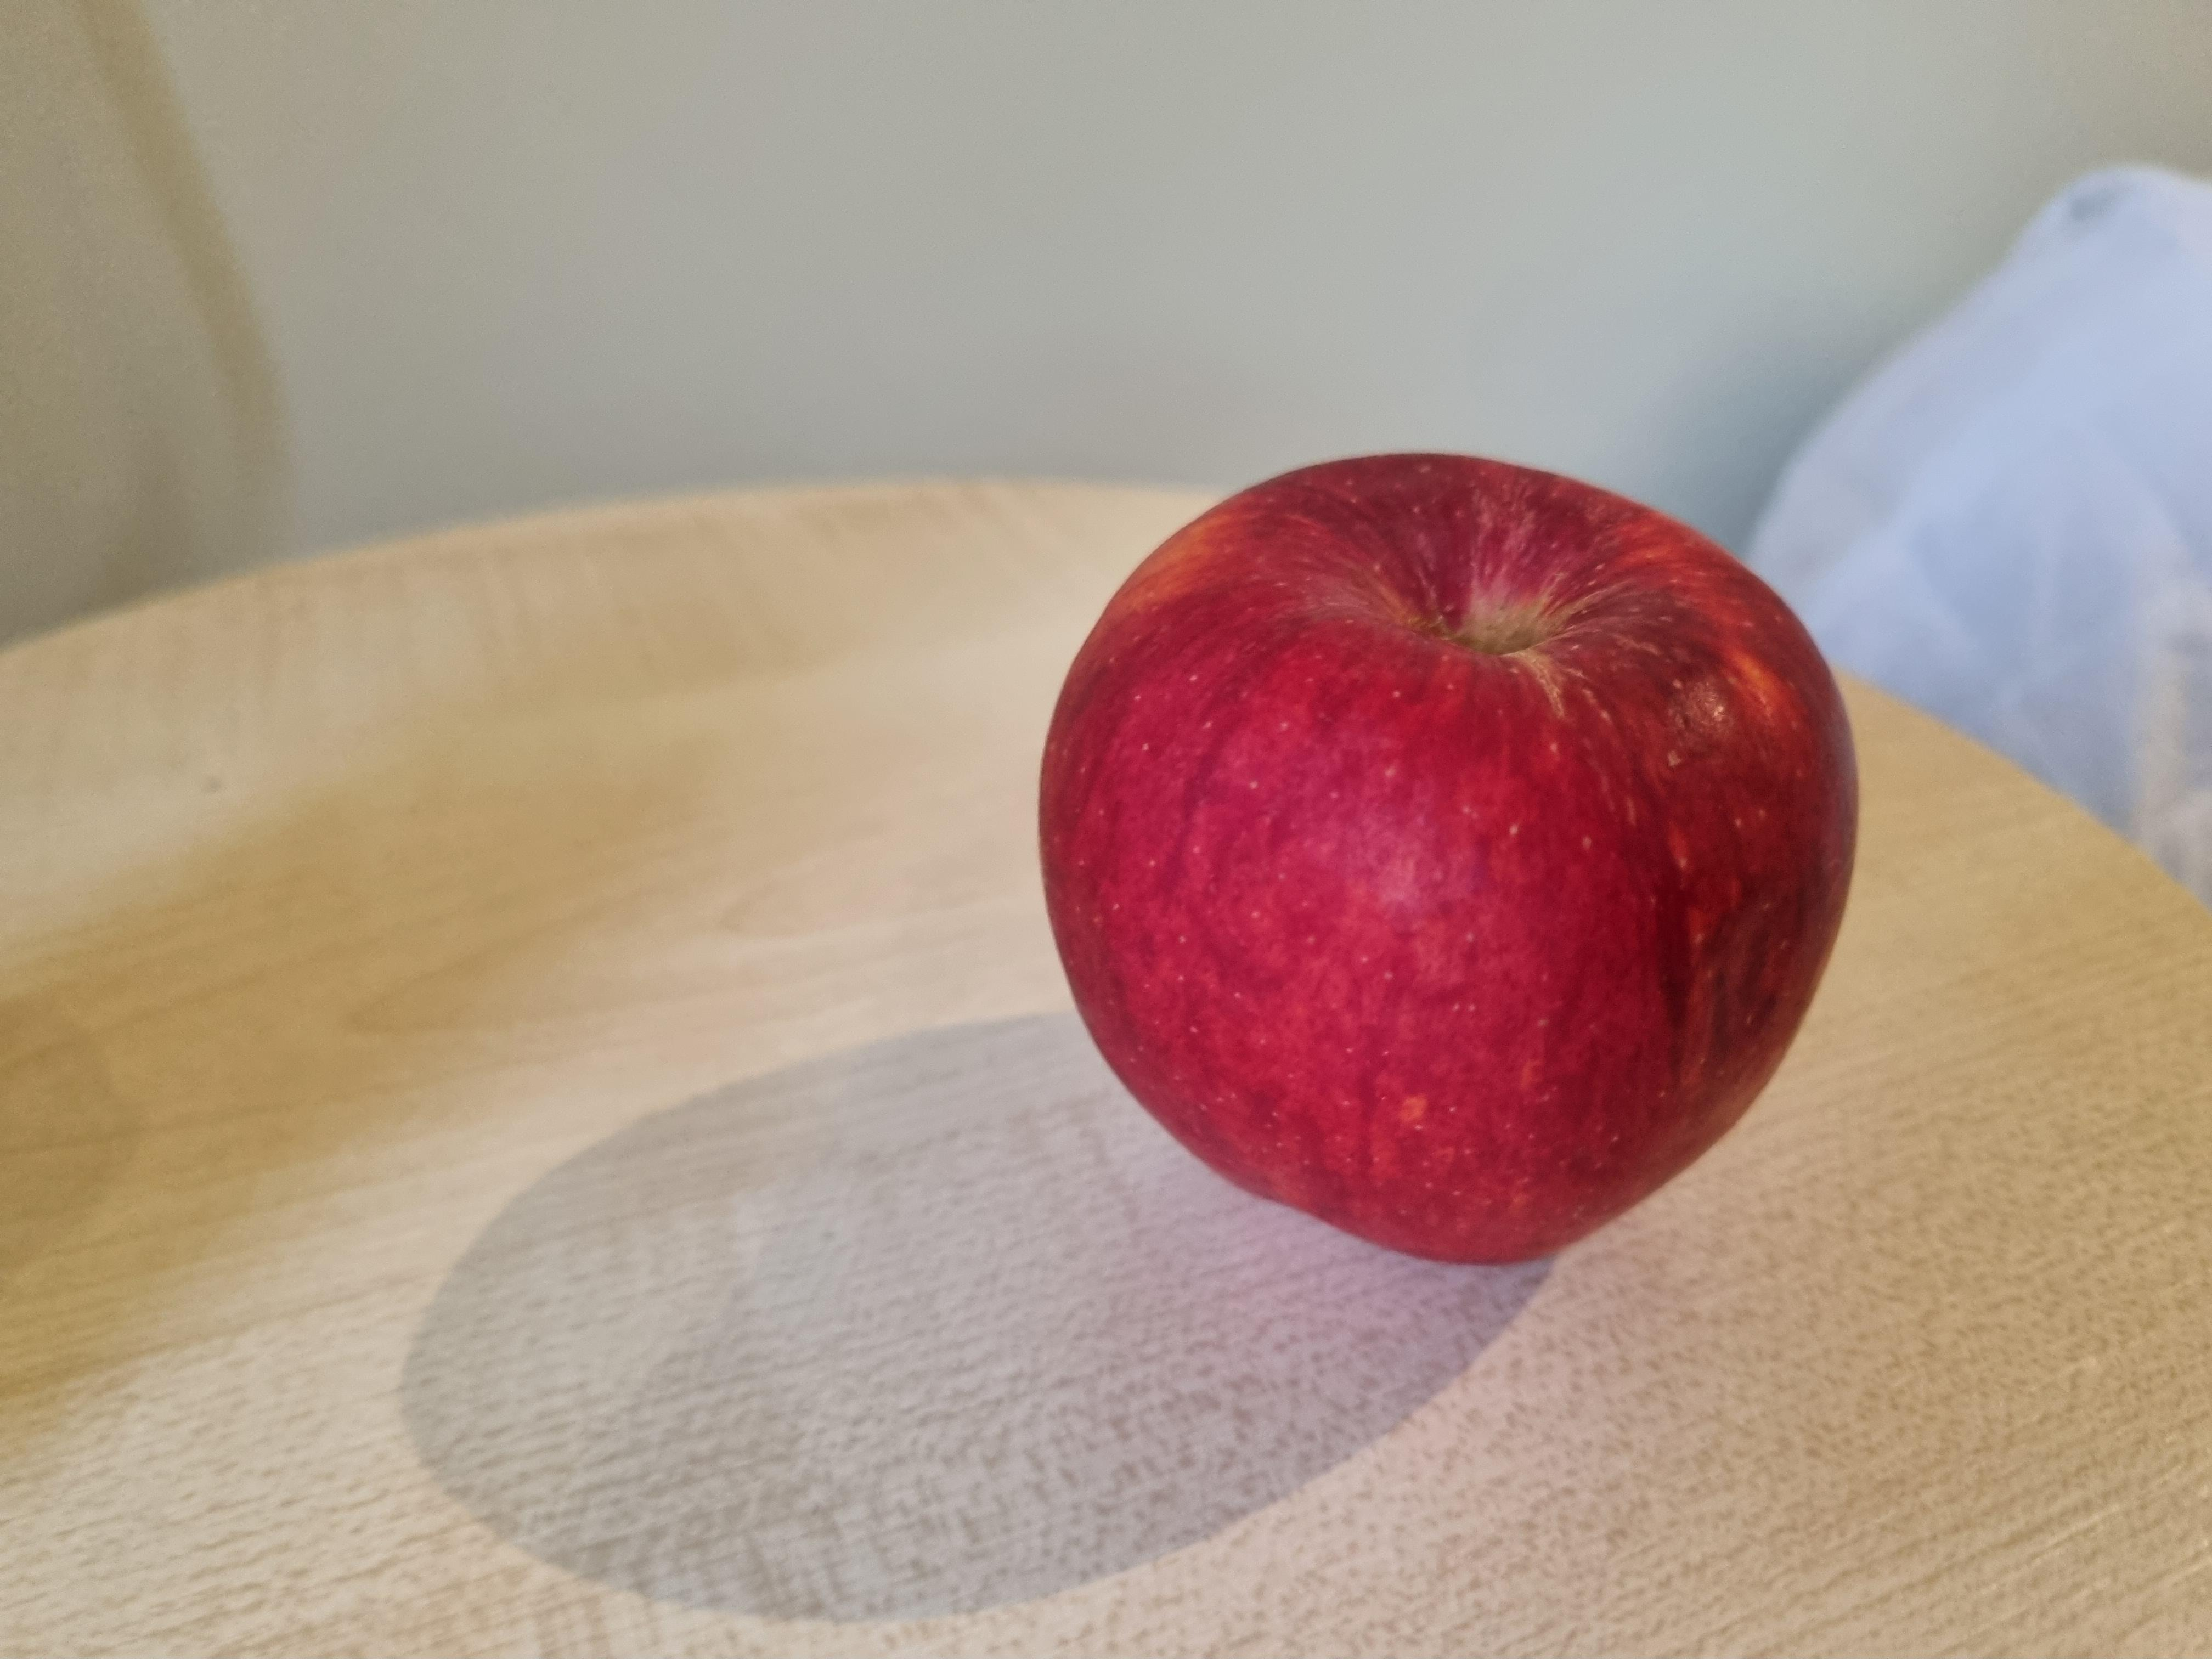Apple: (1028, 434, 1886, 1291)
